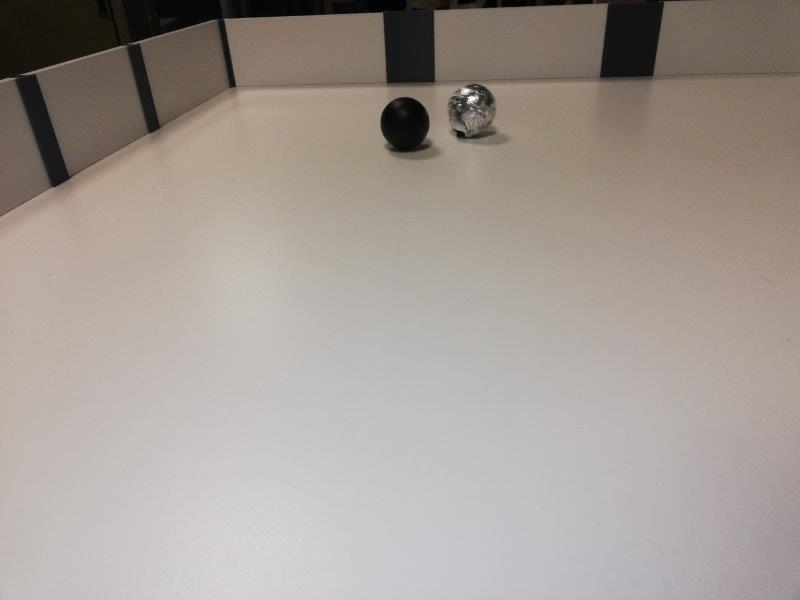bianca: (447, 84, 496, 139)
nera: (380, 97, 429, 151)
